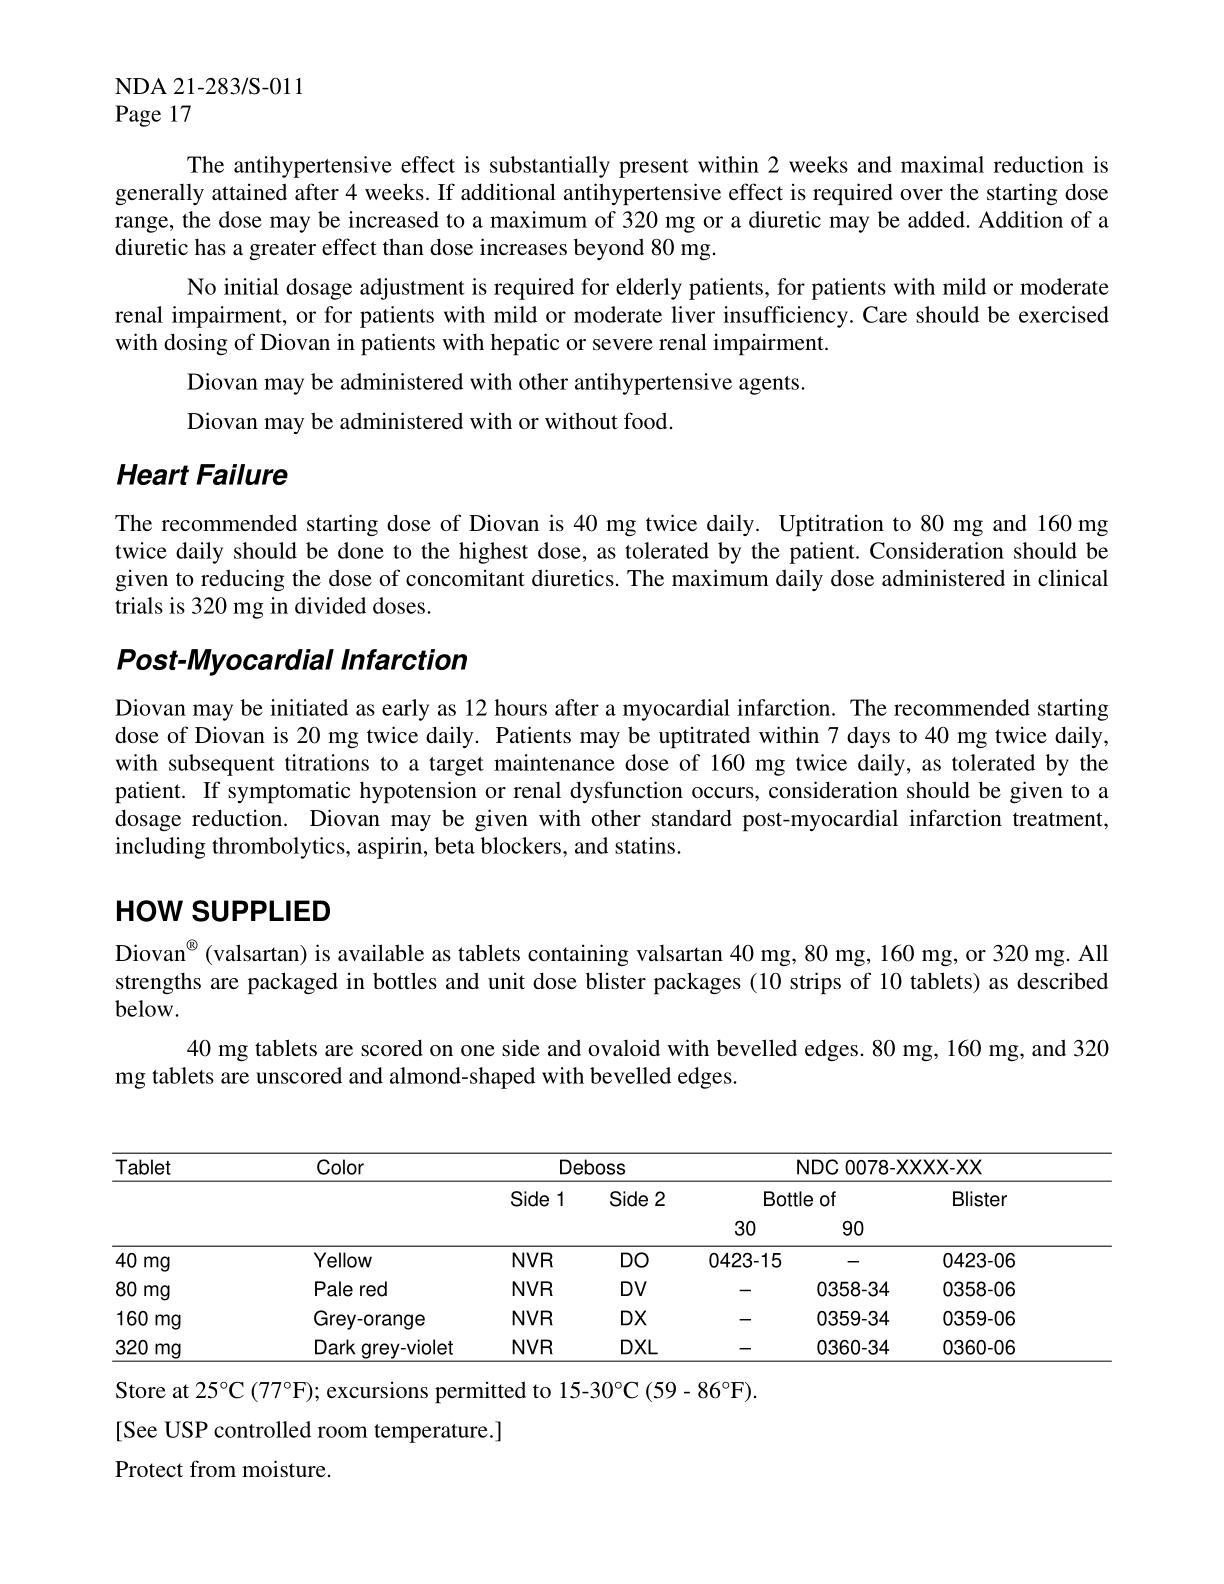partial_lined_merged_cells: (111, 1149, 1113, 1363)
